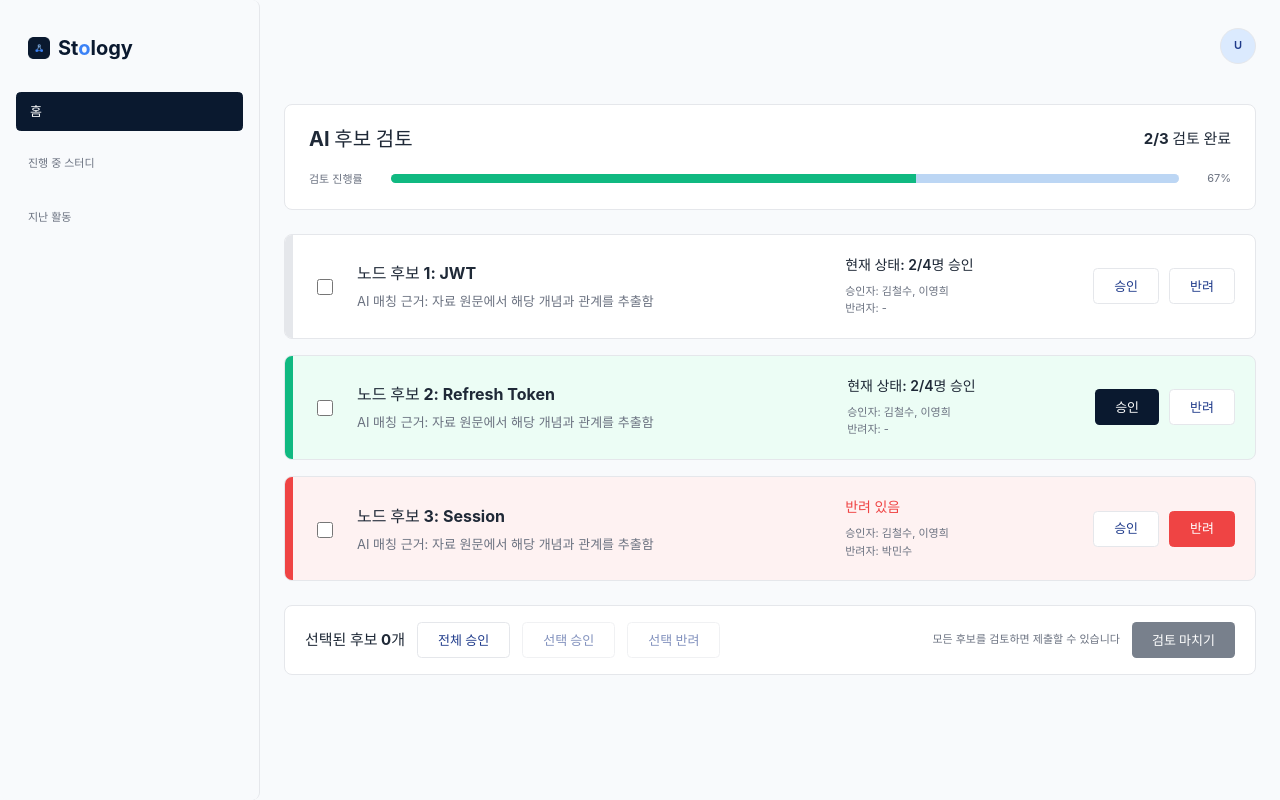
Test: ReviewPage › 선택된 후보 수를 표시하고 선택이 없으면 일괄 액션을 비활성화한다
The image size is (1280, 800).
Check: the text "선택된 후보 0개" is shown, box top-left (305, 629), bottom-right (405, 651)
Check: the button "선택 승인" is disabled, box top-left (522, 622), bottom-right (615, 658)
Click the checkbox named "JWT 후보 선택". click: (325, 287)
box: top-left (317, 279), bottom-right (333, 295)
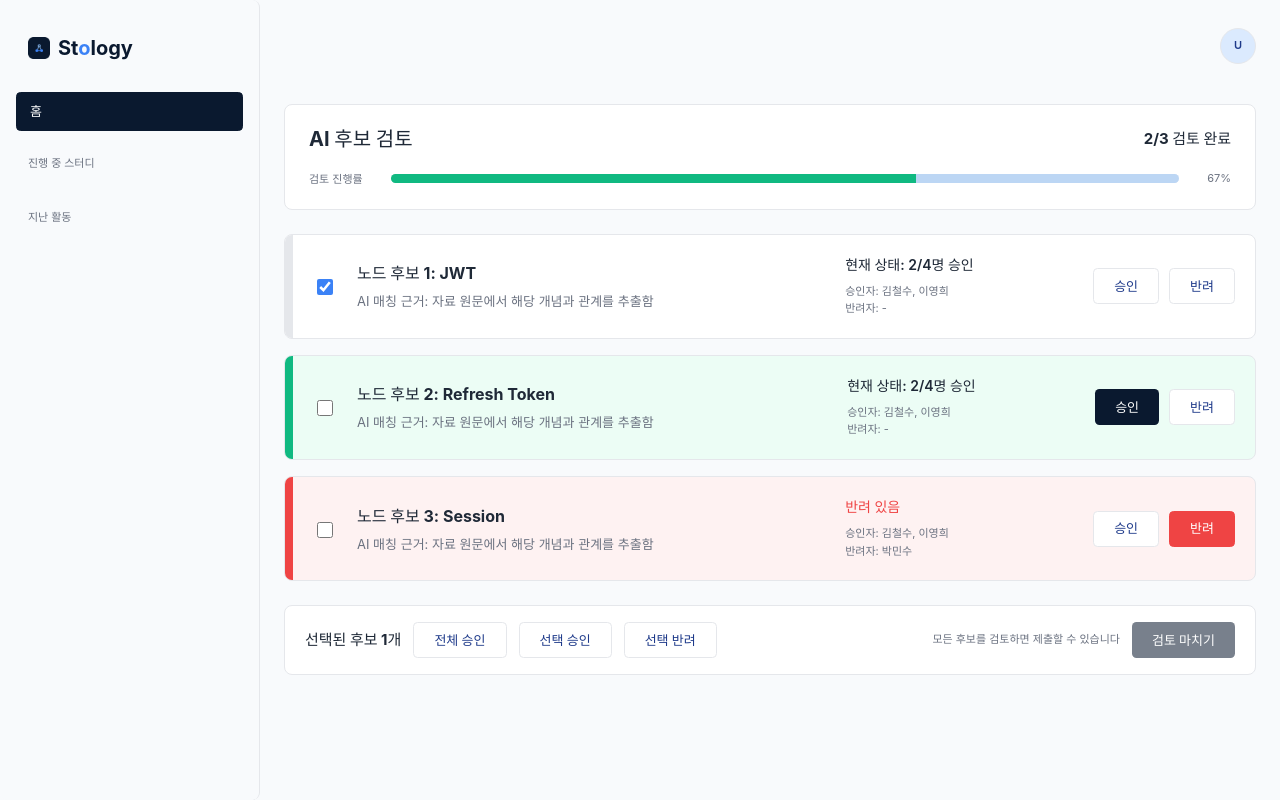
Check: the text "선택된 후보 1개" is shown, box top-left (305, 629), bottom-right (401, 651)
Check: the button "선택 승인" is enabled, box top-left (518, 622), bottom-right (612, 658)
Check: the button "선택 반려" is enabled, box top-left (624, 622), bottom-right (717, 658)
